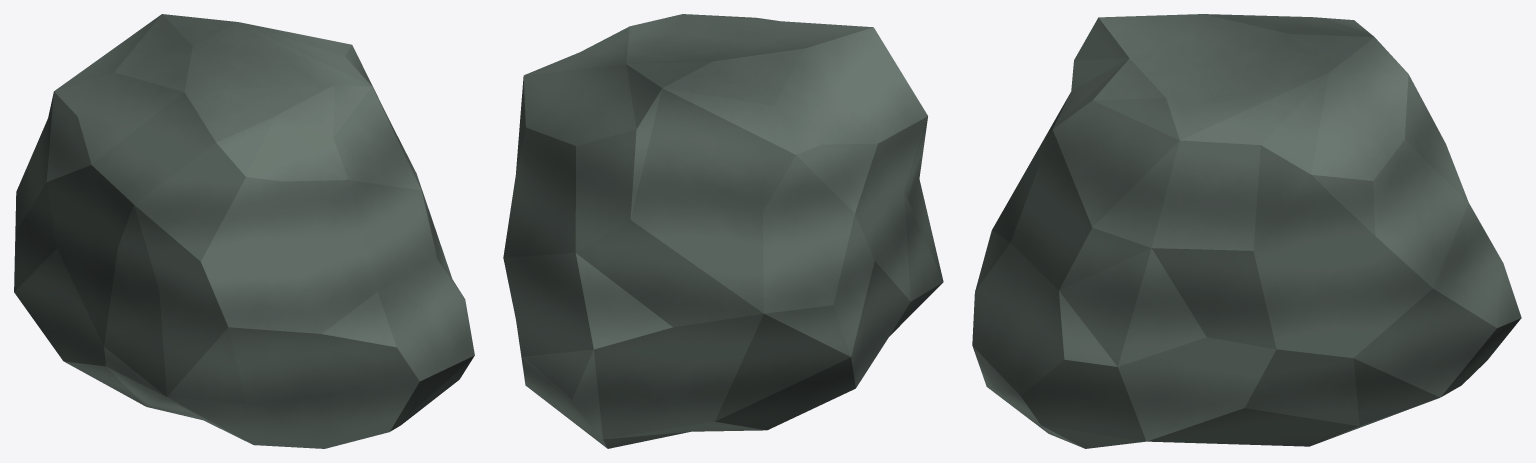
File: rock 4.fbx
The picture shows the model from 3 angles, left to right: view 1: azimuth 30°, elevation 25°; view 2: azimuth 150°, elevation 25°; view 3: azimuth 270°, elevation 25°; orthographic projection. The views are drawn at different scales.
Parts seen in each view (by area): view 1: Rock 4 EXP; view 2: Rock 4 EXP; view 3: Rock 4 EXP.
Part boxes in pixels (left/top/right/bottom): Rock 4 EXP: left=14, top=14, right=474, bottom=448; Rock 4 EXP: left=503, top=14, right=943, bottom=448; Rock 4 EXP: left=972, top=14, right=1521, bottom=448.
Size of the model in its own units: 205 by 191 by 267.
1 material, 1 textured.
